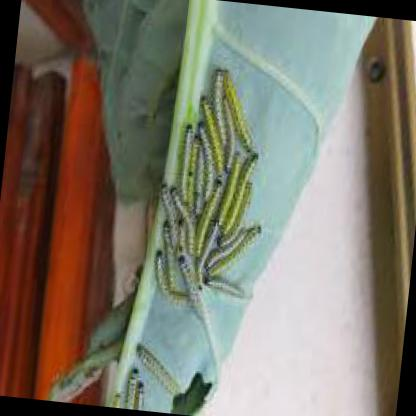pieris: (223, 152, 260, 235), (221, 69, 252, 153), (198, 92, 226, 181), (201, 275, 244, 293)
